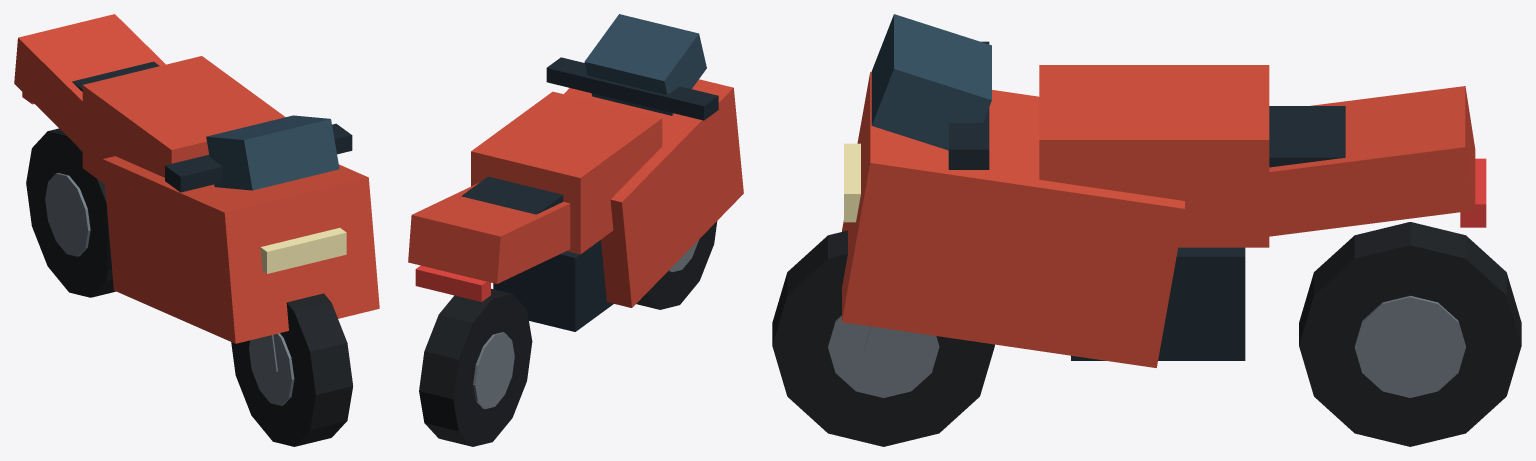
File: chixiao.glb
3 renders of one model, left to right at view 1: azimuth 30°, elevation 25°; view 2: azimuth 150°, elevation 25°; view 3: azimuth 270°, elevation 25°, orthographic. The views are drawn at different scales.
Visible parts, largest first — view 1: fairing, tank, wheel_F, tail, wheel_R, windshield, hub_R, headlight, handlebar, hub_F, front_fork, seat; view 2: fairing, tank, wheel_R, tail, windshield, engine, handlebar, hub_R, wheel_F, seat, taillight; view 3: fairing, tank, wheel_R, tail, wheel_F, windshield, engine, hub_R.001, hub_F.001, seat, handlebar, headlight (+2 smaller).
Boxes of the visible parts, x1,y1,x2,y2 form: fairing: (103, 156, 379, 343); tank: (82, 56, 285, 184); wheel_F: (231, 293, 352, 446); tail: (14, 14, 165, 150); wheel_R: (26, 128, 115, 297); windshield: (206, 115, 339, 190); hub_R: (45, 173, 90, 256); headlight: (260, 228, 346, 273); handlebar: (165, 123, 352, 192); hub_F: (249, 333, 294, 405); front_fork: (256, 335, 277, 371); seat: (72, 61, 159, 91); fairing: (564, 79, 743, 307); tank: (471, 91, 662, 254); wheel_R: (419, 288, 532, 446); tail: (408, 182, 570, 283); windshield: (584, 14, 706, 115); engine: (493, 240, 613, 331); handlebar: (546, 57, 718, 120); hub_R: (473, 332, 514, 409); wheel_F: (636, 221, 717, 309); seat: (461, 176, 563, 214); taillight: (415, 265, 490, 301); fairing: (842, 72, 1184, 367); tank: (1039, 65, 1269, 247); wheel_R: (1299, 222, 1521, 446); tail: (1269, 86, 1475, 236); wheel_F: (772, 230, 994, 446); windshield: (871, 14, 991, 150); engine: (1071, 247, 1245, 360); hub_R.001: (1354, 295, 1465, 397); hub_F.001: (828, 315, 939, 397); seat: (1269, 106, 1345, 167); handlebar: (948, 41, 989, 169); headlight: (844, 143, 860, 222).
Bounding box in the file's own units: 0.69 × 1.17 × 2.02.
